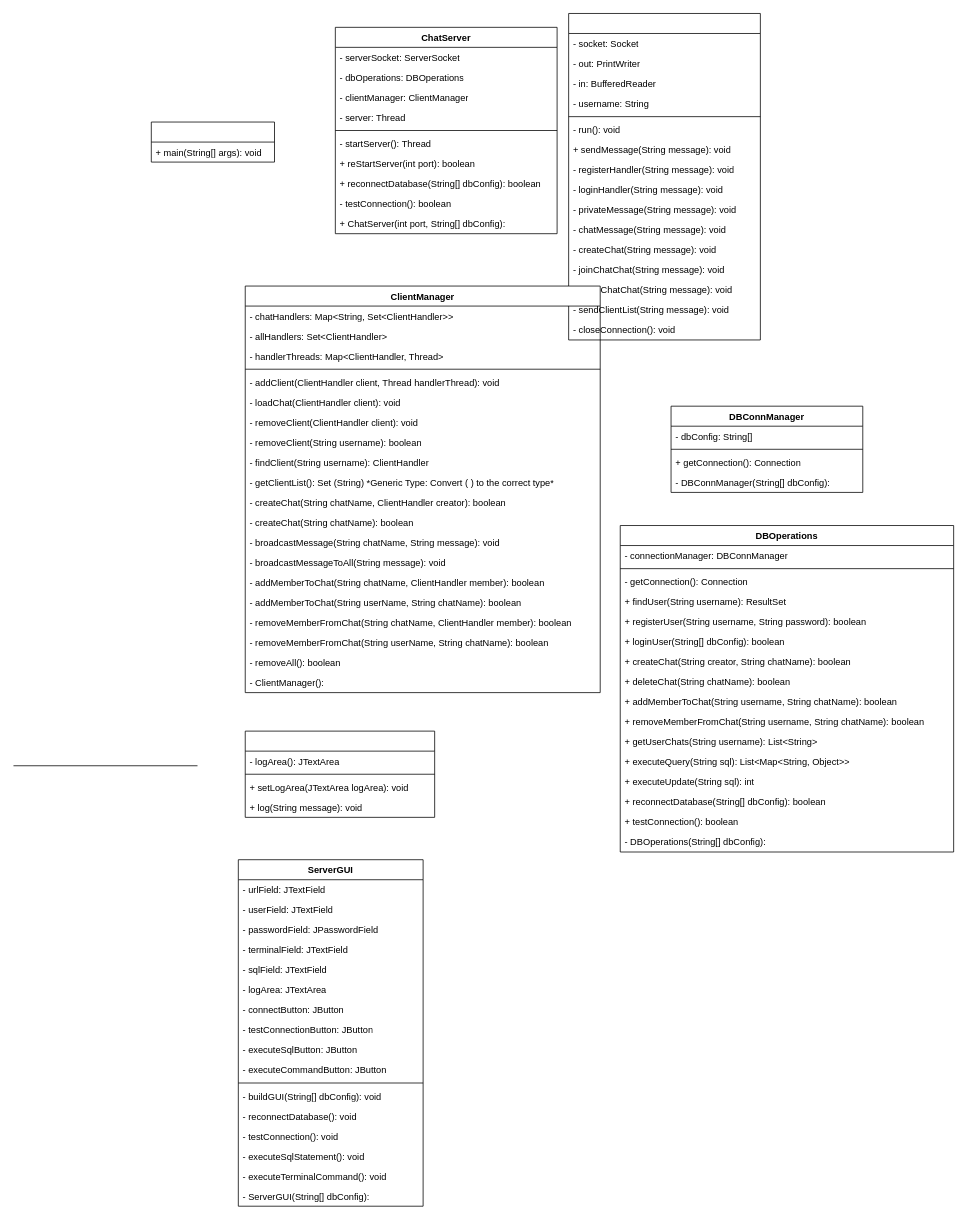
This 967x1222 diagram has some shape labels left out. Each missing label, with the box of its shape:
ClientHandler: (568, 13, 760, 340)
Logger: (244, 730, 435, 817)
StartServer: (151, 121, 275, 162)
